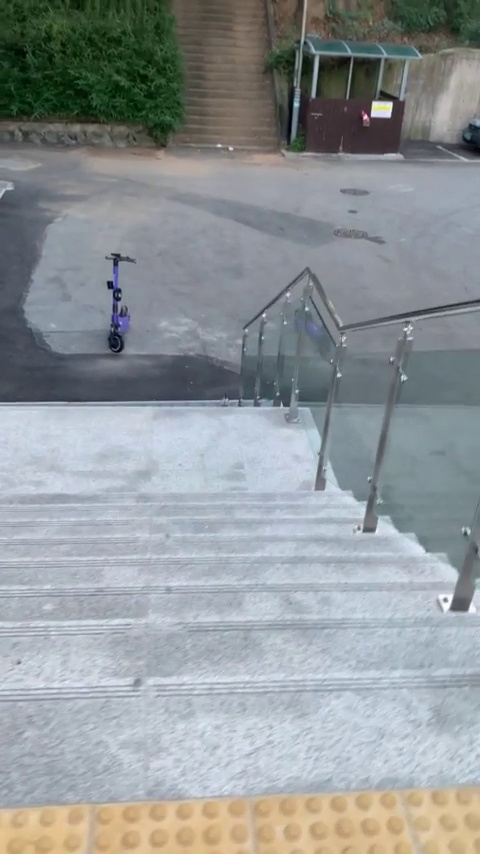beam: (95, 241, 140, 357)
